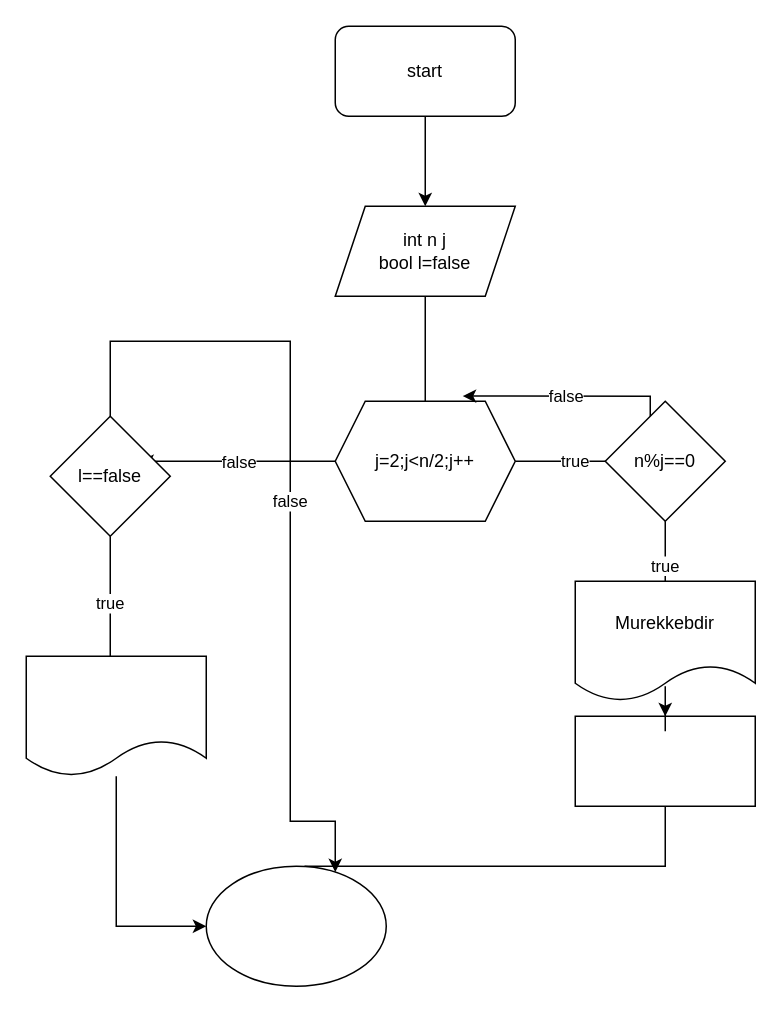
Image size: 782x1013. Some labels were removed from this diagram. The shapes that lost their labels are listed below. From the top down, each one's centre as x and y in pixels, then its label:
(x=115, y=715): Sadedir
(x=664, y=760): l=true break
(x=295, y=925): end
